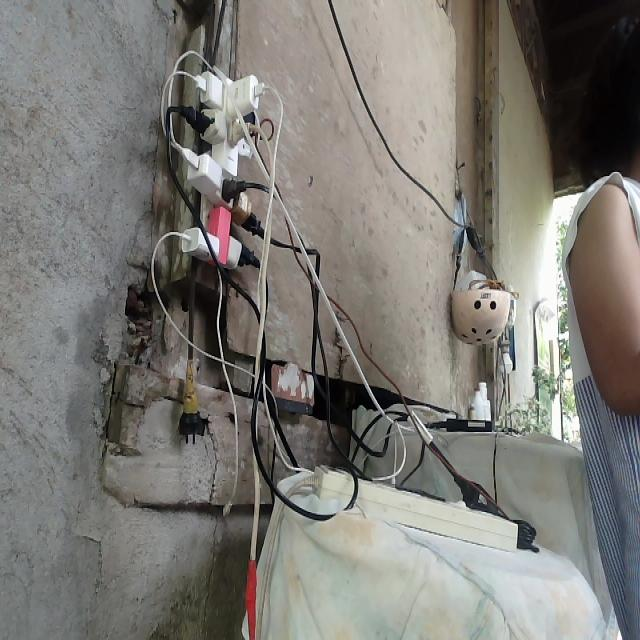-: (145, 36, 309, 304)
